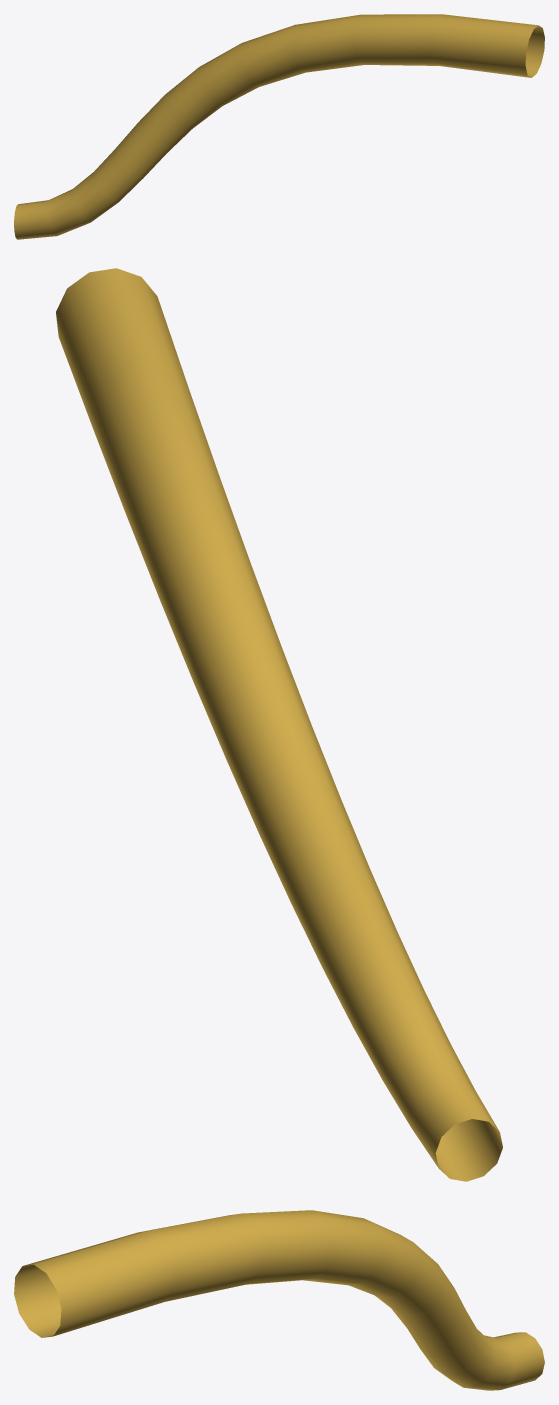
3 views of the same model, one above another, from view 1: azimuth 30°, elevation 25°; view 2: azimuth 150°, elevation 25°; view 3: azimuth 270°, elevation 25° (orthographic). The views are drawn at different scales.
Visible parts, largest first — view 1: 右侧臂丛上干前股; view 2: 右侧臂丛上干前股; view 3: 右侧臂丛上干前股.
Part boxes in pixels (box(x1,y1,x2,y2)): 右侧臂丛上干前股: box(14, 14, 544, 239); 右侧臂丛上干前股: box(56, 268, 502, 1181); 右侧臂丛上干前股: box(14, 1210, 544, 1390).
Size of the model in its own units: 0.036 by 0.0227 by 0.0303.
